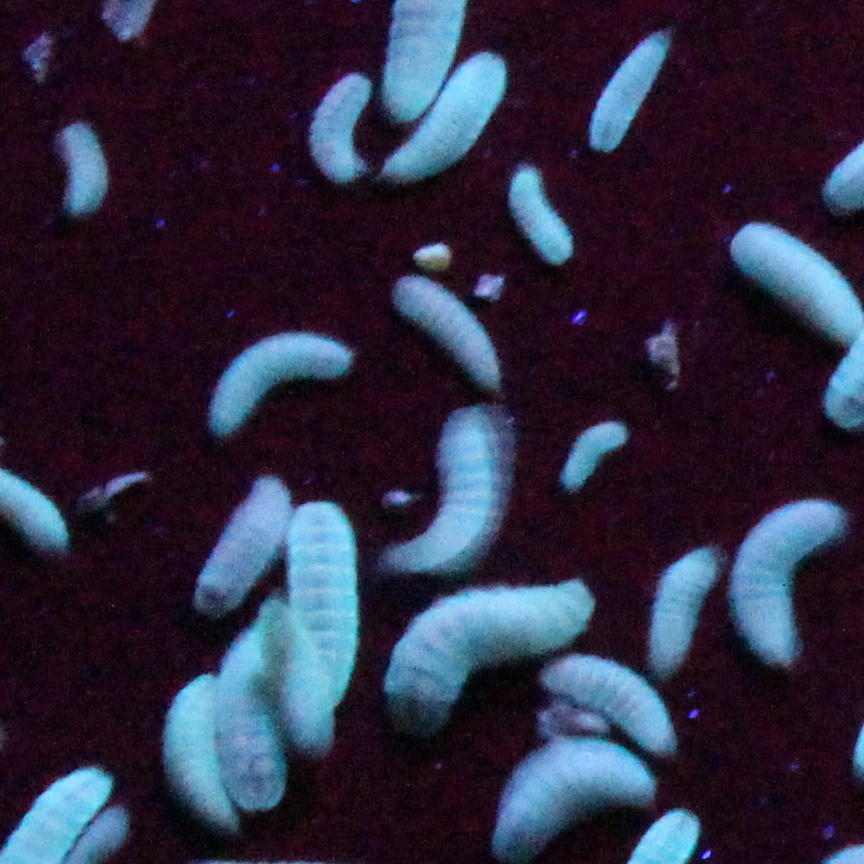larve: (394, 576, 594, 731), (727, 496, 838, 671), (490, 742, 661, 851), (285, 502, 361, 720), (390, 417, 490, 557), (210, 330, 343, 430), (403, 264, 496, 390), (161, 671, 234, 829), (198, 478, 285, 609), (547, 664, 670, 744), (590, 30, 663, 164), (648, 541, 713, 678), (307, 67, 372, 184), (50, 117, 110, 224), (510, 169, 572, 262), (562, 421, 633, 498)
